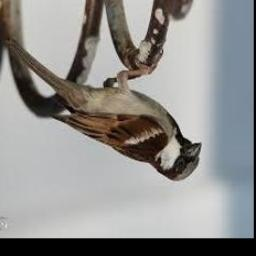Sparrow: (4, 36, 201, 181)
